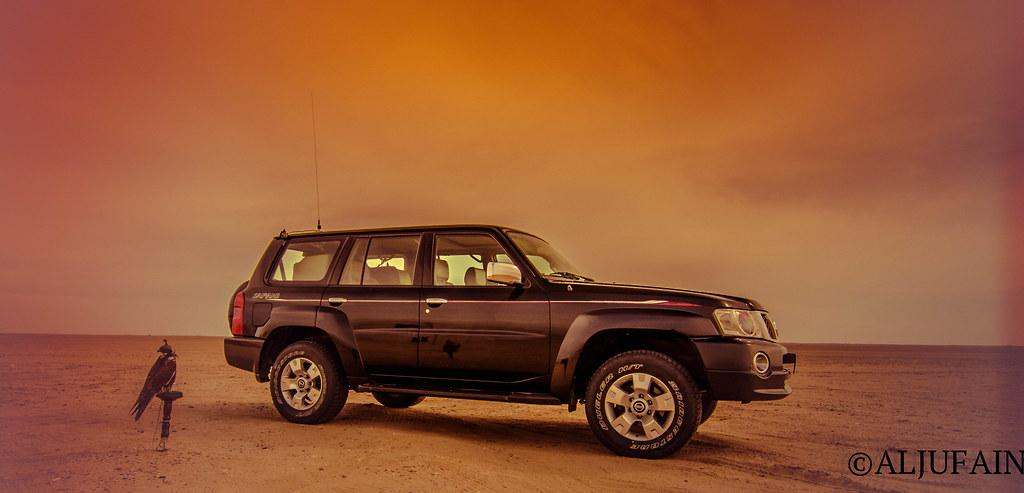car: (224, 223, 797, 460)
